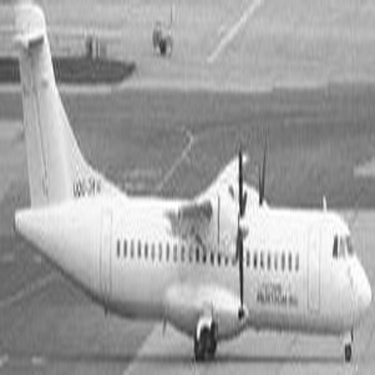airplane: (3, 1, 369, 371), (1, 16, 144, 101)
